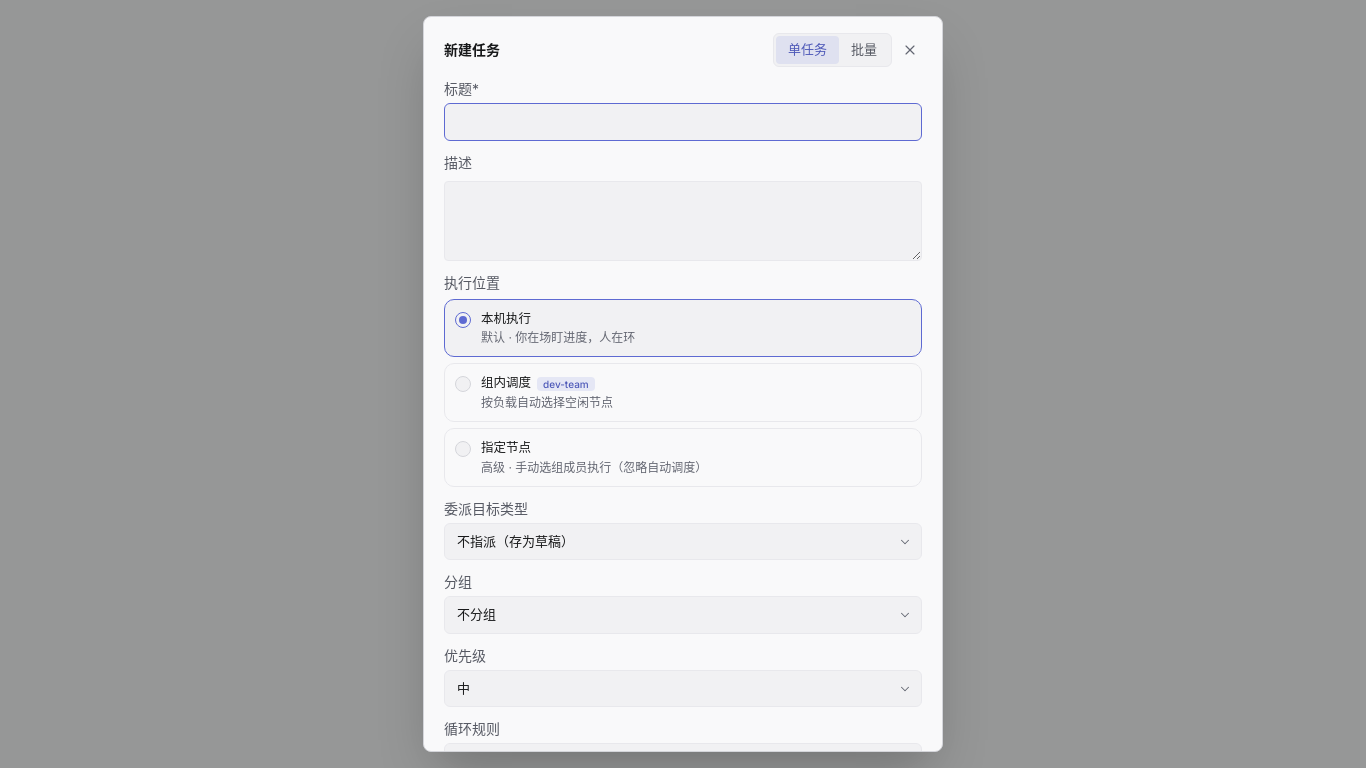
Test case: CreateTaskDialog — 外派团队执行（M5.3 X3） › X3-1. 外派默认单 agent：执行方式 seg 在场（单 agent 选中）+ hint；无团队下拉无预检注
Click the radio button named "组内调度": (463, 384) [455,376,471,392]
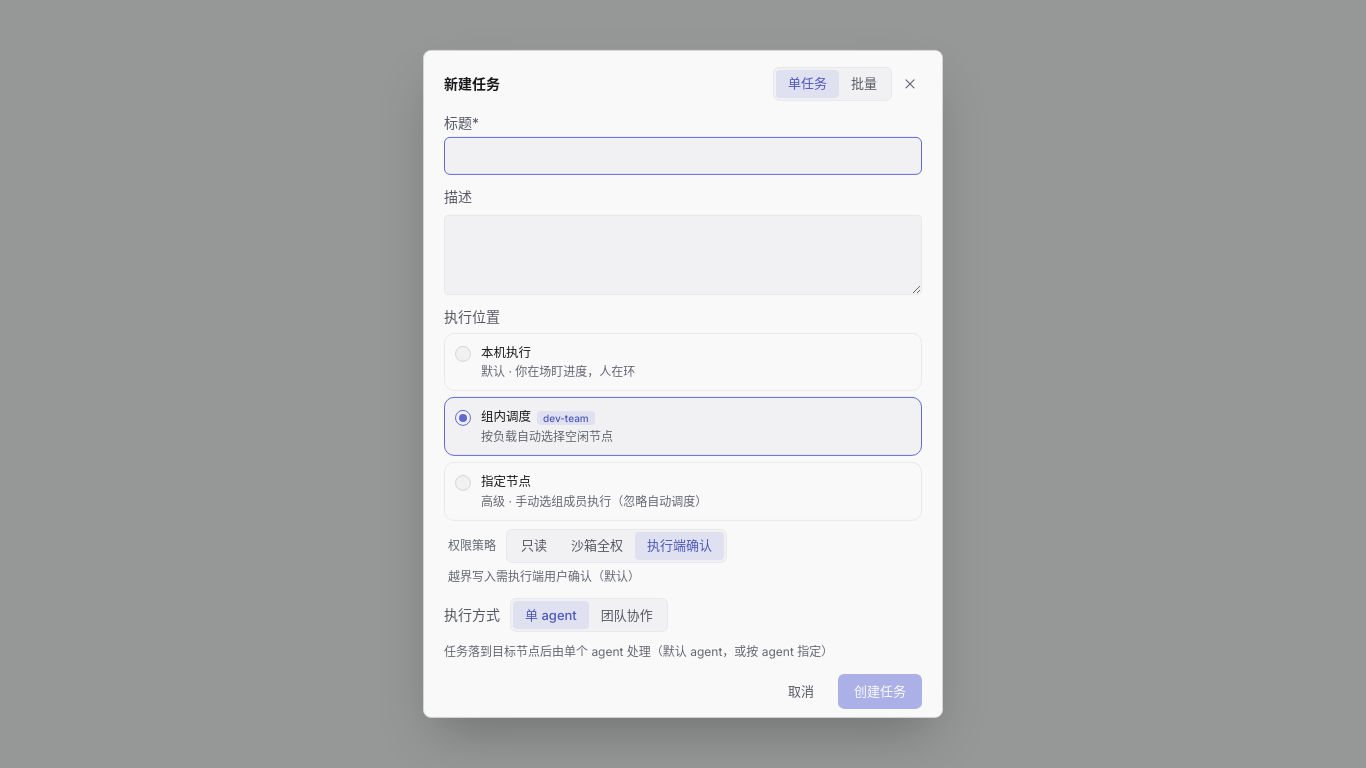
Result: the element named "执行方式" is shown at [510,598,668,632]
Result: the text "任务落到目标节点后由单个 agent 处理（默认 agent，或按 agent 指定）" is shown at [444,644,833,659]
